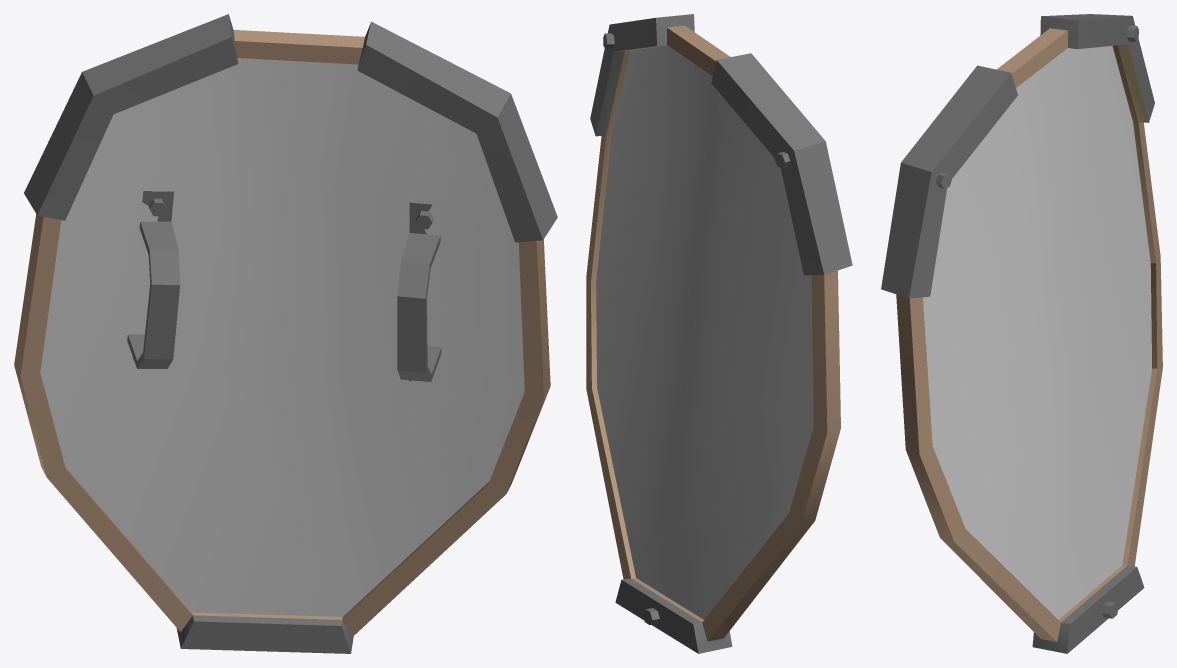
The model's file is Final_Shield 1.fbx.
3 views of the same model, side by side, from view 1: azimuth 30°, elevation 25°; view 2: azimuth 150°, elevation 25°; view 3: azimuth 270°, elevation 25° (orthographic). The views are drawn at different scales.
Parts seen in each view (by area): view 1: pCylinder7; view 2: pCylinder7; view 3: pCylinder7.
Part boxes in pixels (bbox=[...]): pCylinder7: bbox=[14, 14, 557, 653]; pCylinder7: bbox=[586, 14, 852, 653]; pCylinder7: bbox=[881, 14, 1162, 653].
Size of the model in its own units: 3.87 by 5.83 by 2.55.
